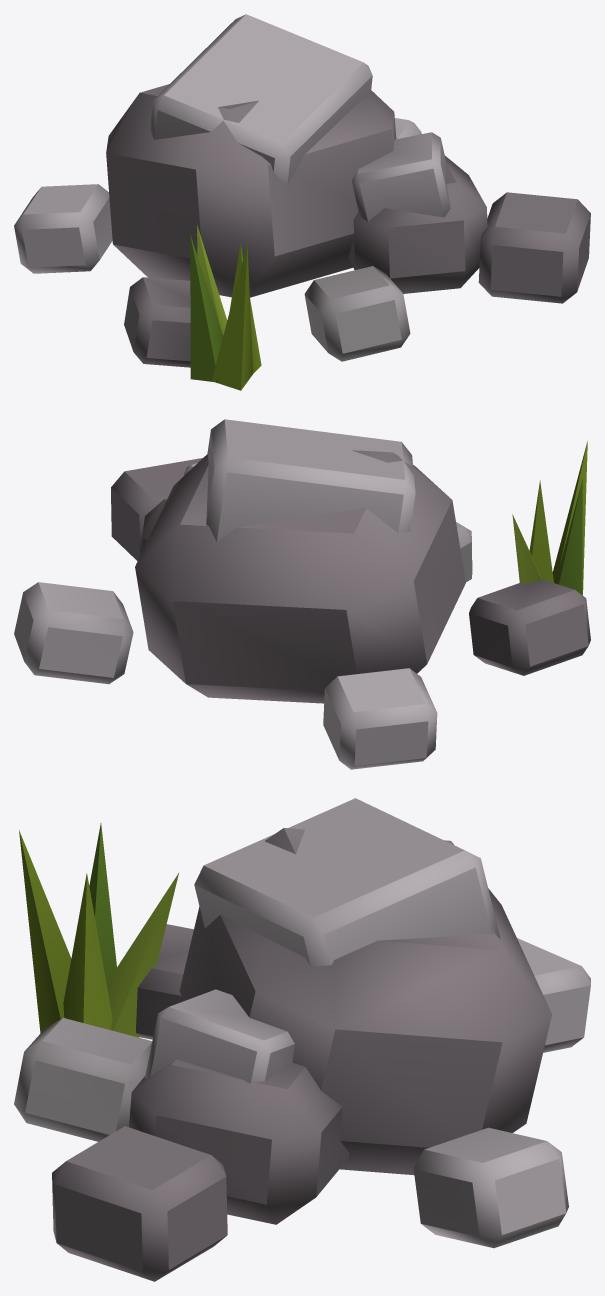
The model's file is n_rock_3.glb.
3 views of the same model, one above another, from view 1: azimuth 30°, elevation 25°; view 2: azimuth 150°, elevation 25°; view 3: azimuth 270°, elevation 25° (orthographic). The views are drawn at different scales.
Parts seen in each view (by area): view 1: body; view 2: body; view 3: body.
Part boxes in pixels (<box>): body: <box>14,14,590,390</box>; body: <box>14,419,590,769</box>; body: <box>14,798,590,1281</box>.
Bounding box in the file's own units: 0.9838 × 0.4925 × 0.8275.
